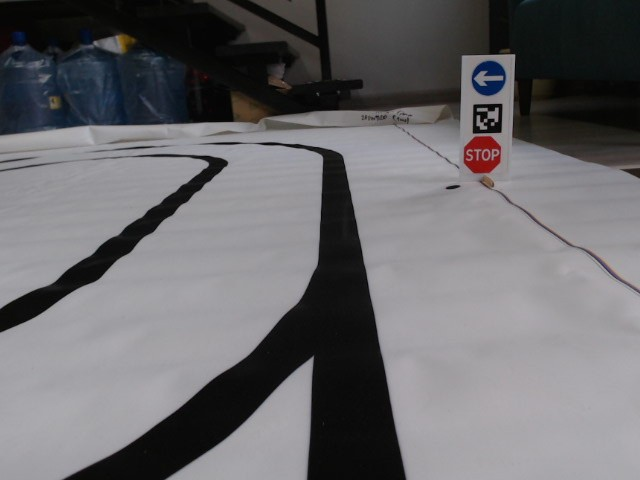Stop: (463, 136, 502, 173)
